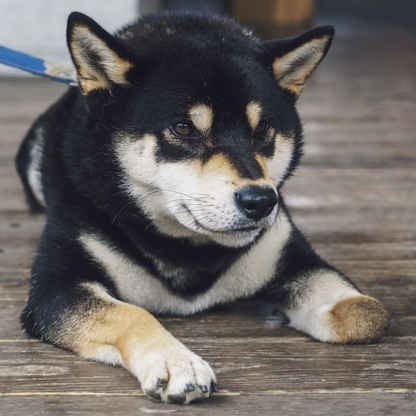shiba: (13, 9, 397, 408)
